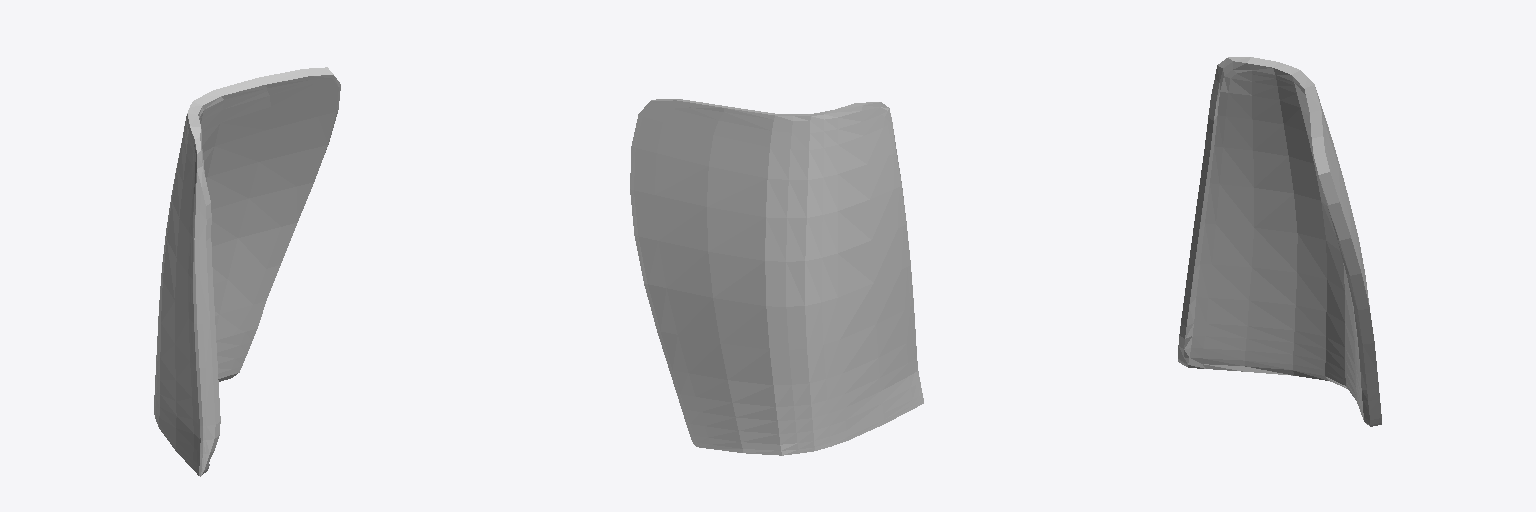
The picture shows the model from 3 angles: view 1: azimuth 30°, elevation 25°; view 2: azimuth 150°, elevation 25°; view 3: azimuth 270°, elevation 25°; orthographic projection.
Parts seen in each view (by area): view 1: P712_541C_L_P712_541C_L_2_N, P712_541C_L_1_DTaSI_P712_541C_L; view 2: P712_541C_L_1_DTaSI_P712_541C_L; view 3: P712_541C_L_P712_541C_L_2_N, P712_541C_L_1_DTaSI_P712_541C_L.
Part boxes in pixels (bbox=[...]): P712_541C_L_P712_541C_L_2_N: bbox=[198, 75, 340, 381]; P712_541C_L_1_DTaSI_P712_541C_L: bbox=[154, 67, 333, 476]; P712_541C_L_1_DTaSI_P712_541C_L: bbox=[630, 99, 923, 455]; P712_541C_L_P712_541C_L_2_N: bbox=[1184, 61, 1369, 425]; P712_541C_L_1_DTaSI_P712_541C_L: bbox=[1178, 57, 1381, 426].
Bounding box in the file's own units: 26.37 × 37.81 × 21.88.